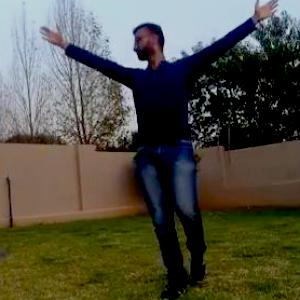takeoff: (37, 0, 252, 299)
